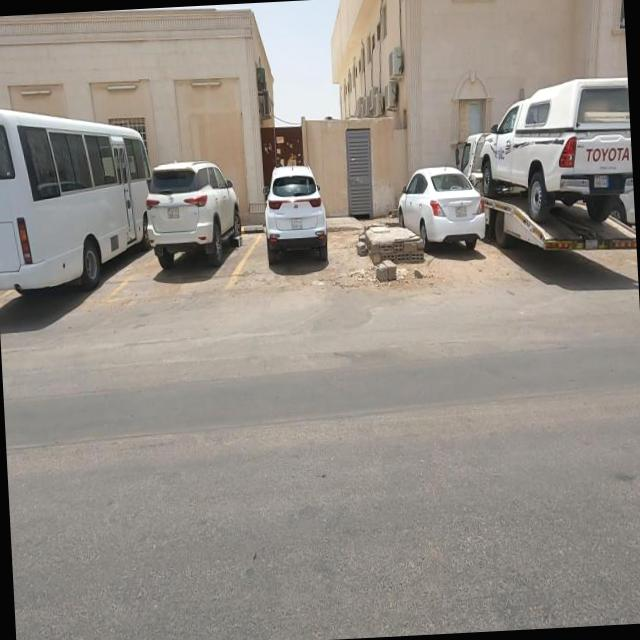debris: (324, 237, 396, 305), (382, 245, 422, 298)
